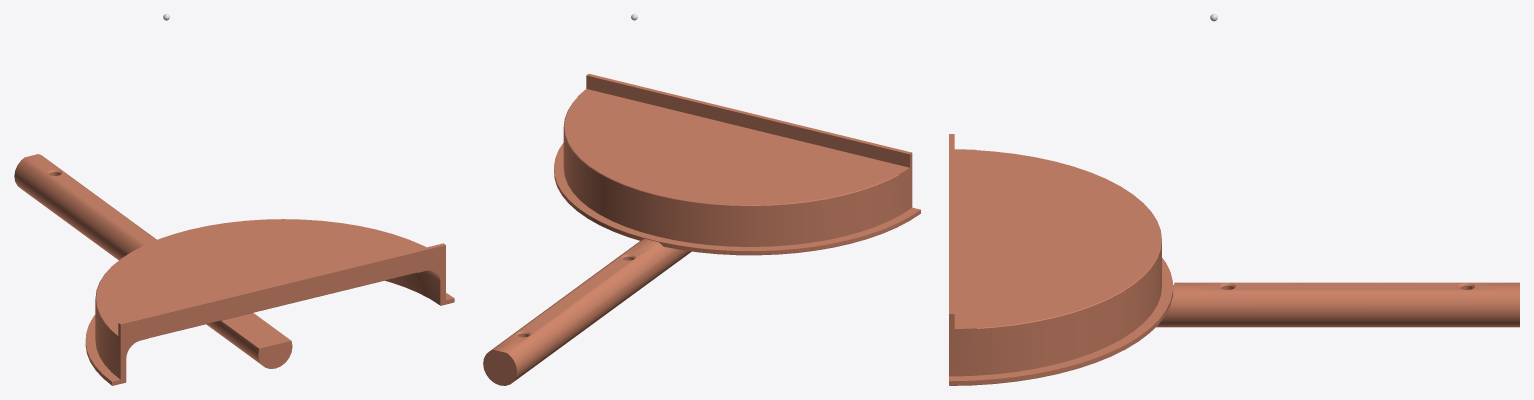
The model's file is avenza matt r gold.glb.
3 views of the same model, side by side, from view 1: azimuth 30°, elevation 25°; view 2: azimuth 150°, elevation 25°; view 3: azimuth 270°, elevation 25° (orthographic). The views are drawn at different scales.
Visible parts, largest first — view 1: CB_AVENZA_; view 2: CB_AVENZA_; view 3: CB_AVENZA_.
Boxes of the visible parts, x1,y1,x2,y2 form: CB_AVENZA_: (14,154,454,385); CB_AVENZA_: (483,74,920,385); CB_AVENZA_: (949,134,1519,385).
Size of the model in its own units: 0.2731 by 0.2091 by 0.3477.
